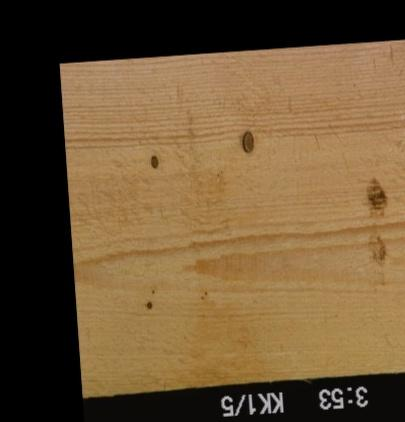dry_knot: (241, 130, 254, 155)
small_knot: (149, 154, 159, 170), (145, 299, 153, 310)
